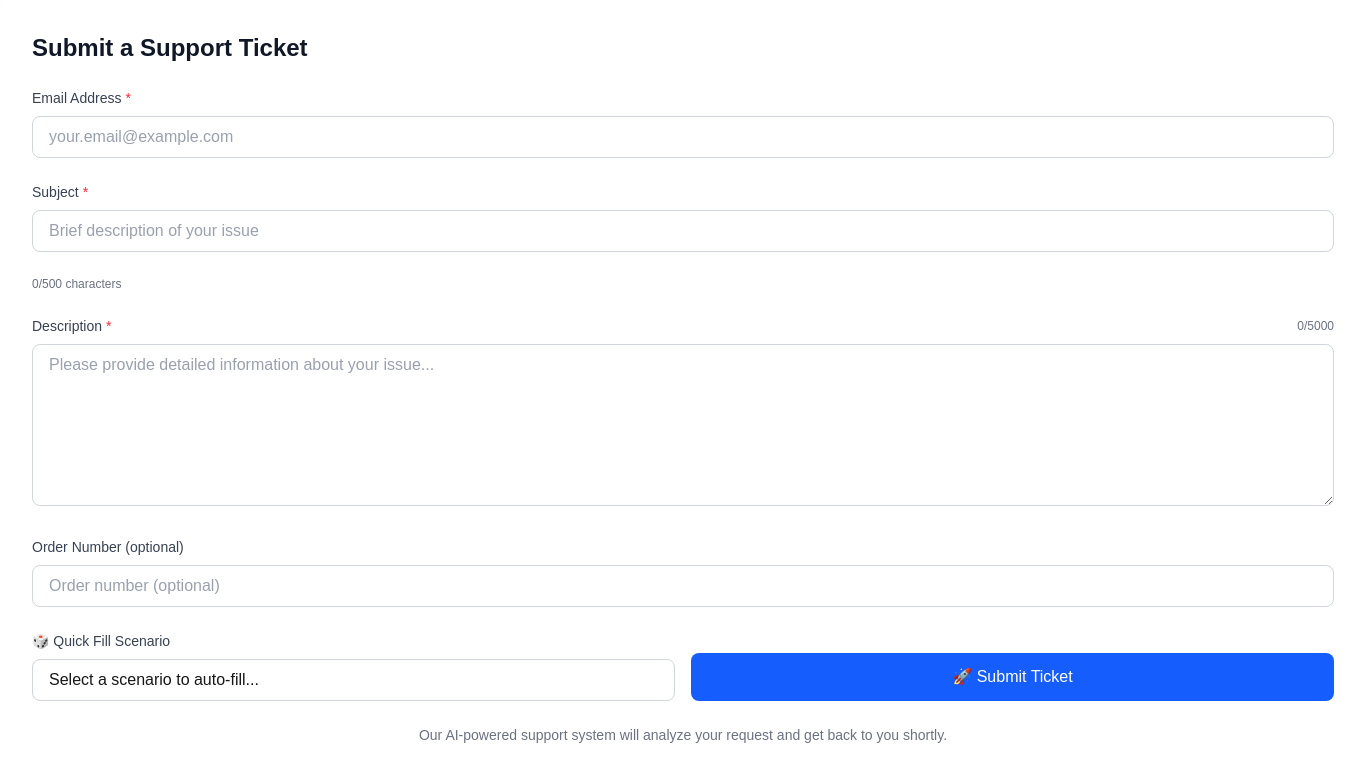
Test case: TicketForm Integration Tests › Character Counters › should update subject character counter when typing
Type "Hello" into the field labelled "Subject*".
click(683, 231); type("Hello")  # box [32,210,1334,252]
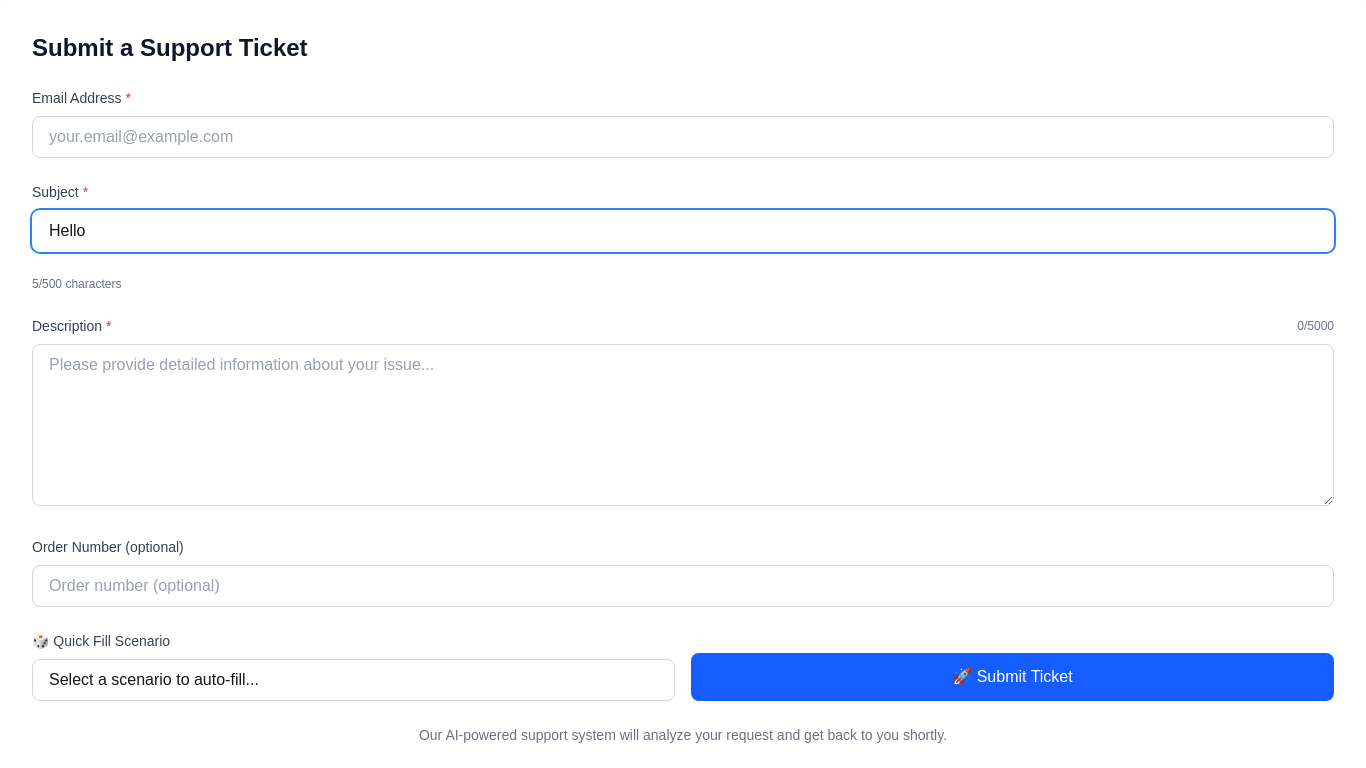
Expected: the text "5/500 characters" is shown, [32,277,121,291]
